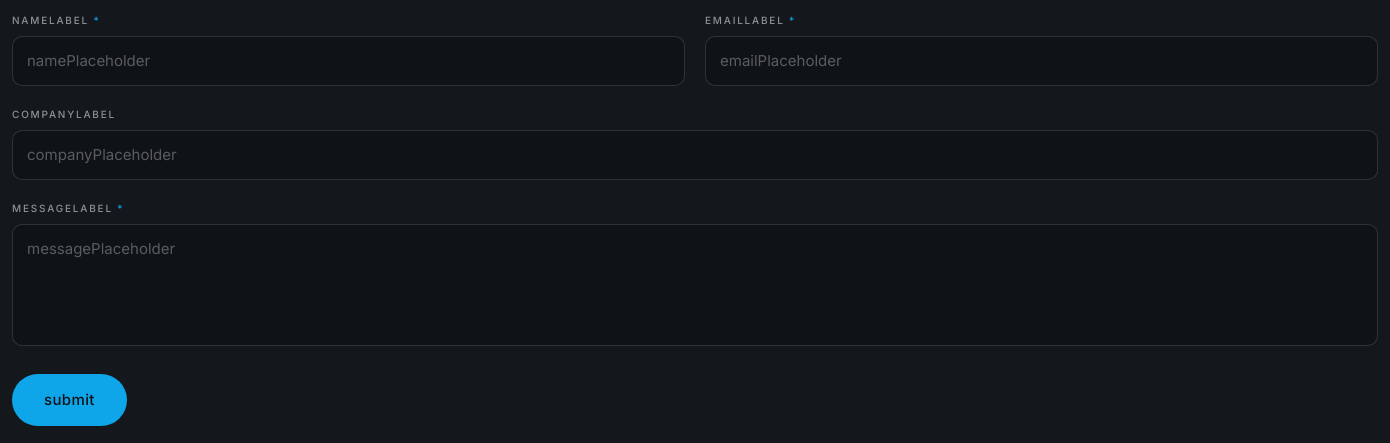
ContactForm › shows success state on successful submit
Type "María" into the field labelled "nameLabel *" at (348, 61), box x1=12 y1=36 x2=685 y2=86
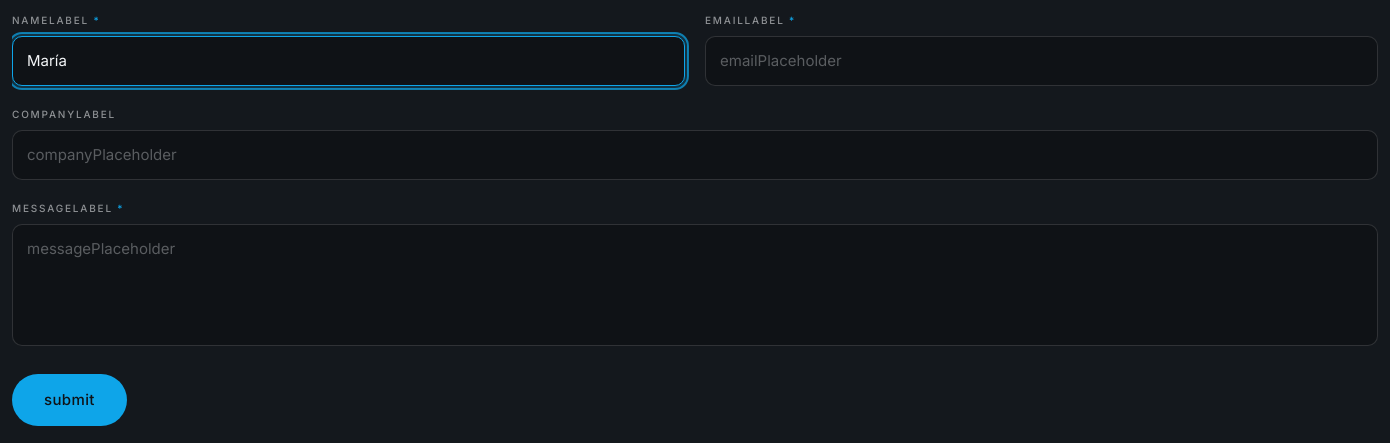
Type "maria@example.com" into the field labelled "emailLabel *" at (1042, 61), box x1=705 y1=36 x2=1378 y2=86
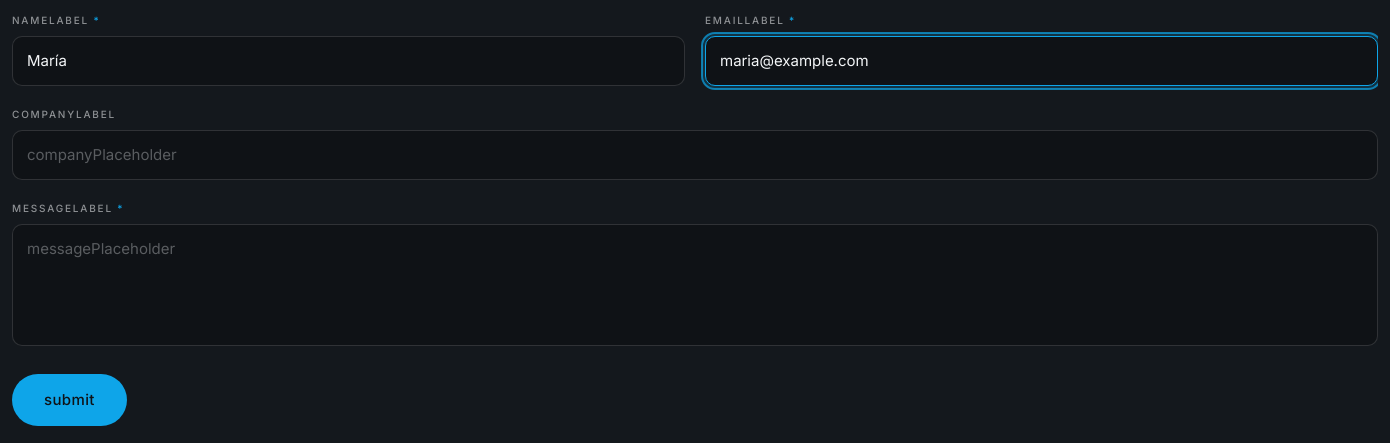
Type "I would like to discuss a partnership opportunity" into the text box labelled "messageLabel *" at (695, 285), box x1=12 y1=224 x2=1378 y2=346
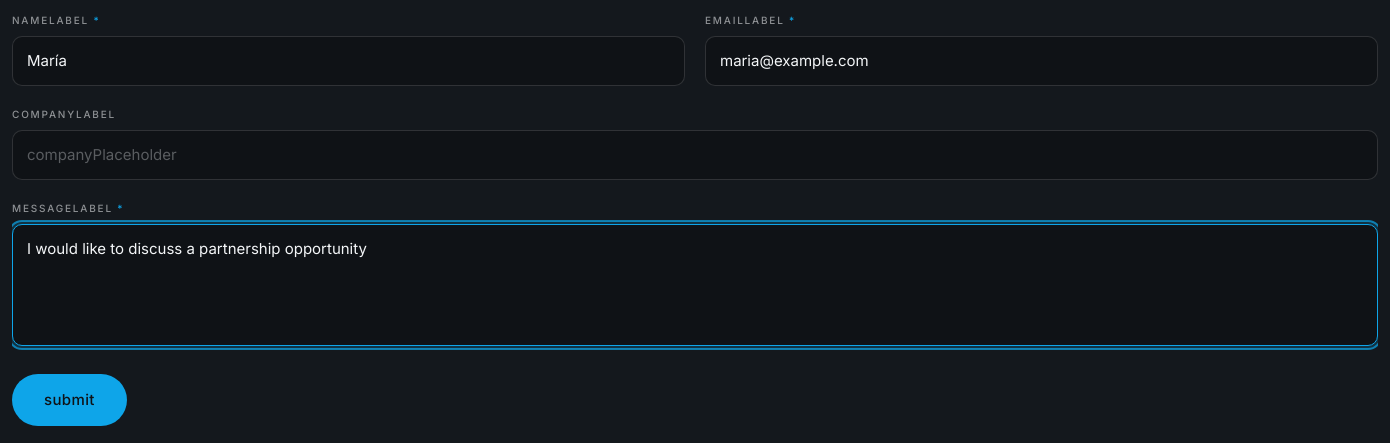
Click the button "submit" at (69, 400), box x1=12 y1=374 x2=127 y2=426
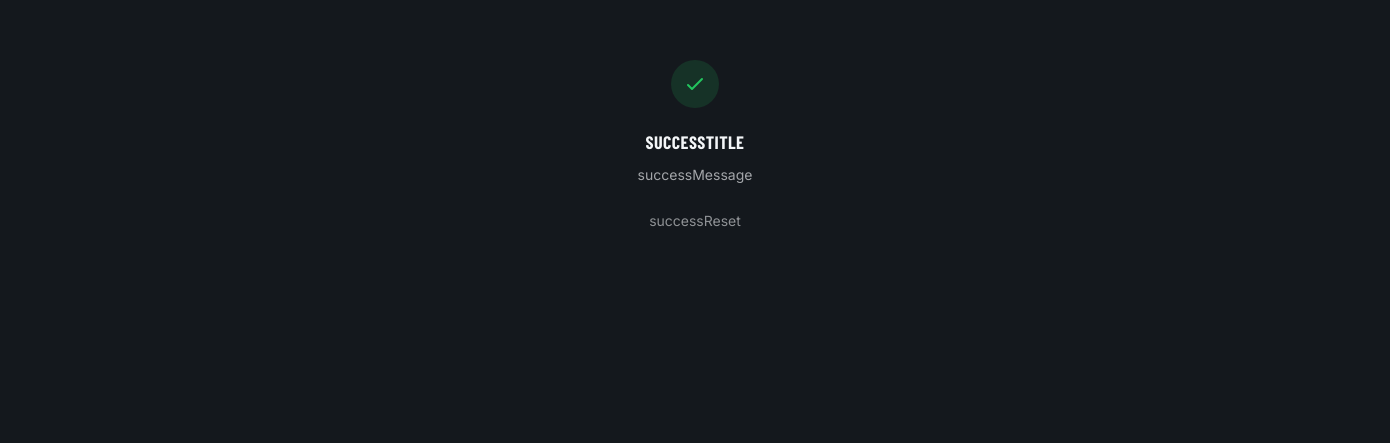
Check: the text "successTitle" is shown, box x1=646 y1=128 x2=744 y2=156
